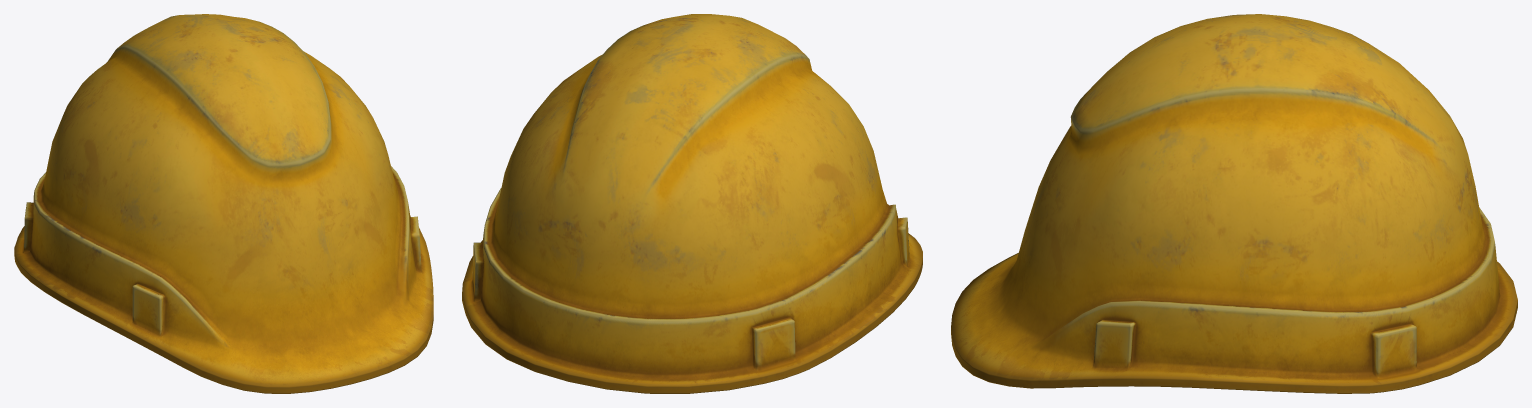
Rendered from helmet.fbx.
3 renders of one model, left to right at view 1: azimuth 30°, elevation 25°; view 2: azimuth 150°, elevation 25°; view 3: azimuth 270°, elevation 25°, orthographic. The views are drawn at different scales.
Visible parts, largest first — view 1: helmet.001; view 2: helmet.001; view 3: helmet.001.
Boxes of the visible parts, bbox=[...] form: helmet.001: bbox=[14, 14, 433, 393]; helmet.001: bbox=[462, 14, 922, 393]; helmet.001: bbox=[951, 14, 1517, 393].
Bounding box in the file's own units: 25 × 18 × 30.
1 material, 1 textured.
